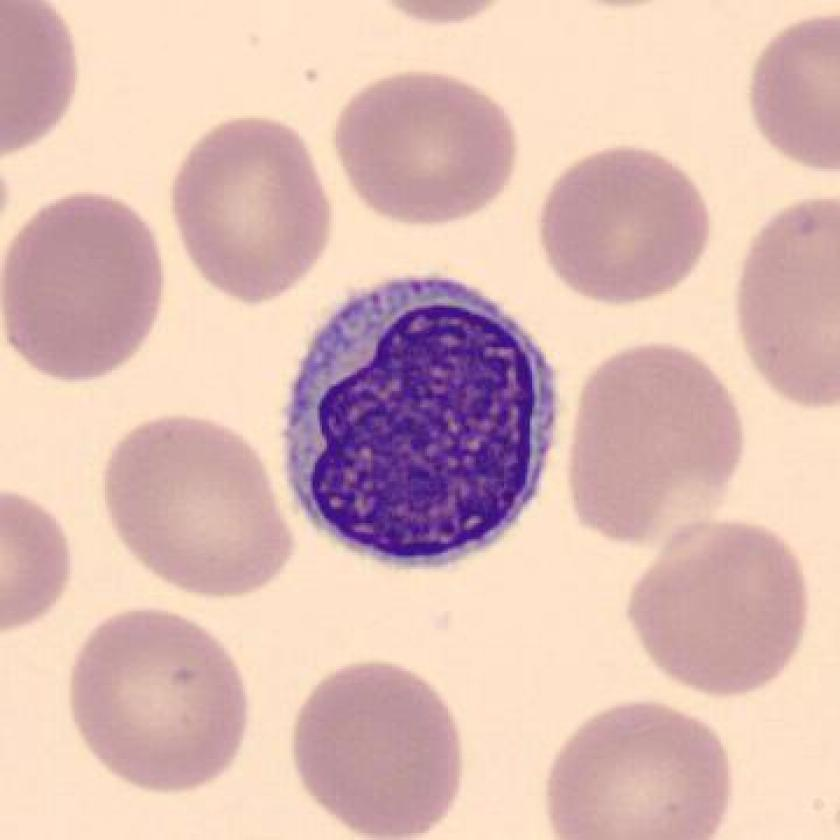lymphocyte: (262, 258, 580, 584)
